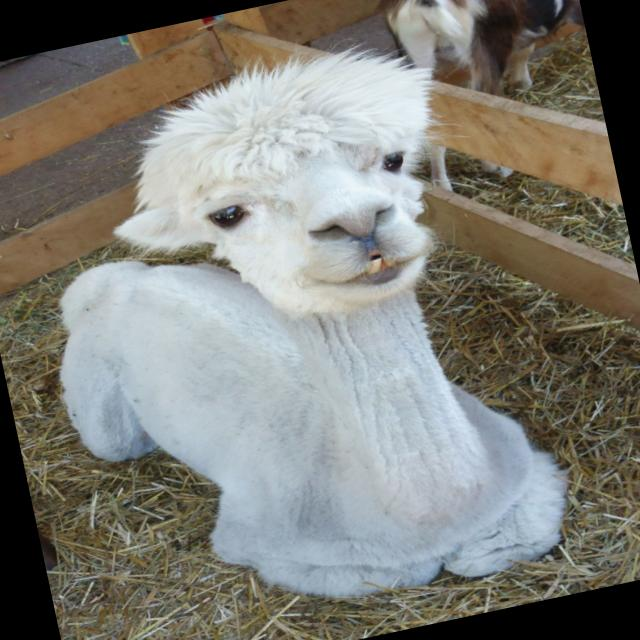alpaca: (7, 16, 586, 640)
